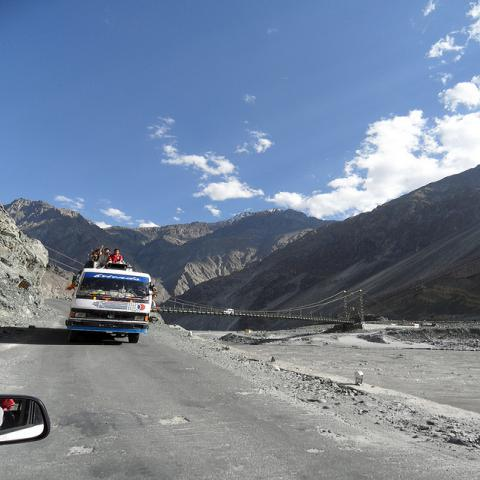bus: (66, 267, 154, 346)
car: (220, 308, 236, 314)
